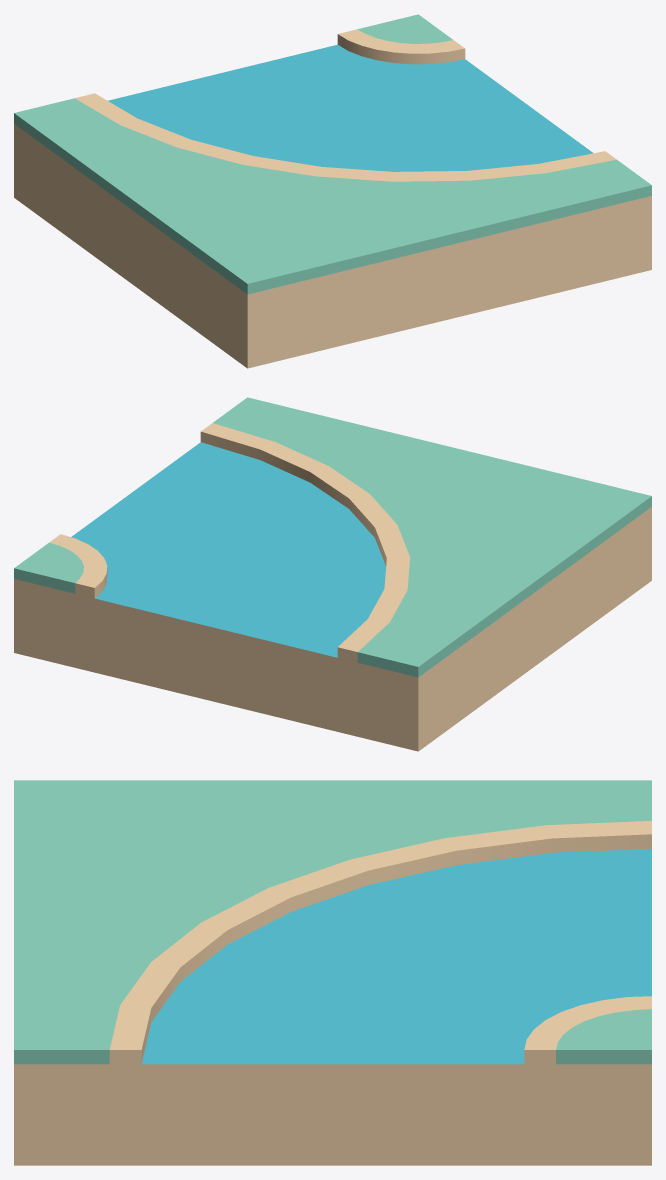
The model's file is Water_Corner.fbx.
The picture shows the model from 3 angles, top to bottom: view 1: azimuth 30°, elevation 25°; view 2: azimuth 150°, elevation 25°; view 3: azimuth 270°, elevation 25°; orthographic projection. The views are drawn at different scales.
Visible parts, largest first — view 1: Water_Corner; view 2: Water_Corner; view 3: Water_Corner.
Part boxes in pixels (left/top/right/bottom): Water_Corner: left=14, top=14, right=651, bottom=368; Water_Corner: left=14, top=397, right=651, bottom=751; Water_Corner: left=14, top=780, right=651, bottom=1165.
Size of the model in its own units: 1 by 0.2 by 1.
